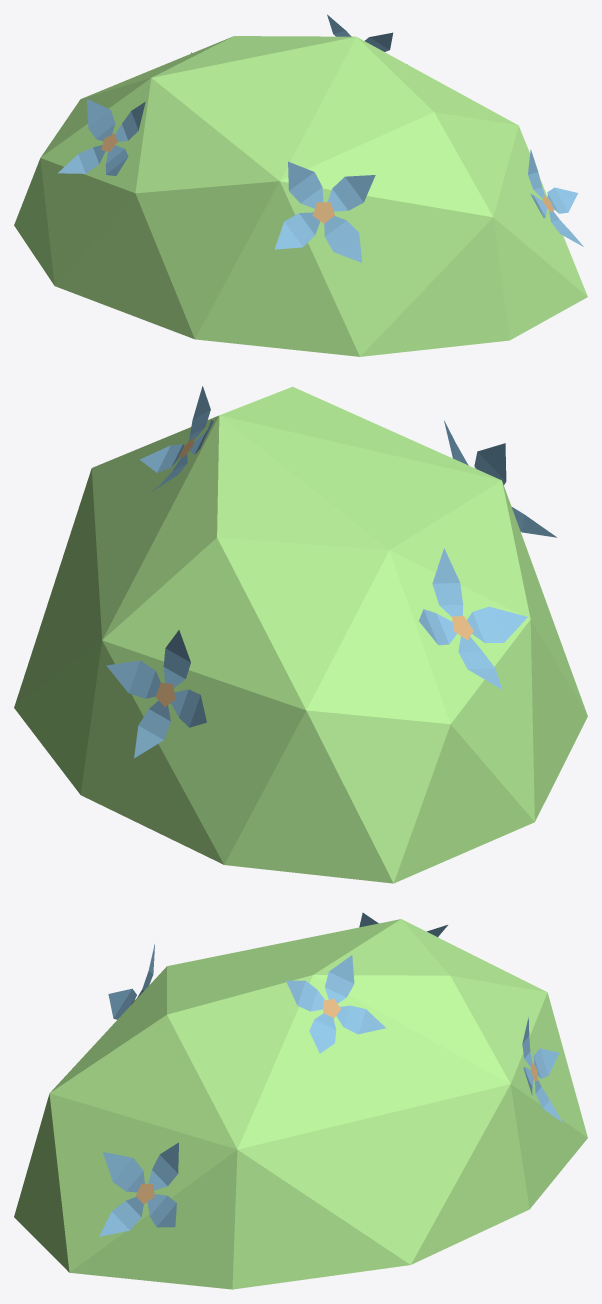
The model's file is FlowerBush_h_m_02.fbx.
The picture shows the model from 3 angles, top to bottom: view 1: azimuth 30°, elevation 25°; view 2: azimuth 150°, elevation 25°; view 3: azimuth 270°, elevation 25°; orthographic projection. The views are drawn at different scales.
Parts seen in each view (by area): view 1: FlowerBush_h_m_02; view 2: FlowerBush_h_m_02; view 3: FlowerBush_h_m_02.
Boxes of the visible parts, x1=… form: FlowerBush_h_m_02: x1=14, y1=14, x2=587, y2=356; FlowerBush_h_m_02: x1=14, y1=386, x2=587, y2=883; FlowerBush_h_m_02: x1=14, y1=912, x2=587, y2=1289.
Bounding box in the file's own units: 152 × 75.51 × 160.
